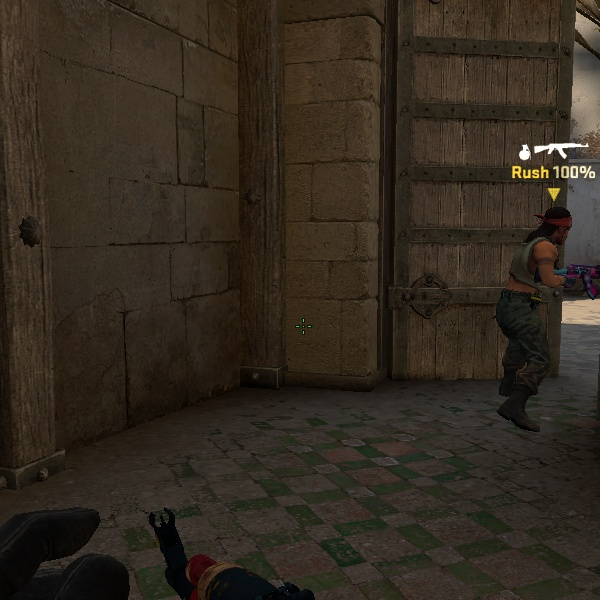t_body: (499, 205, 577, 417)
t_head: (535, 205, 573, 247)
